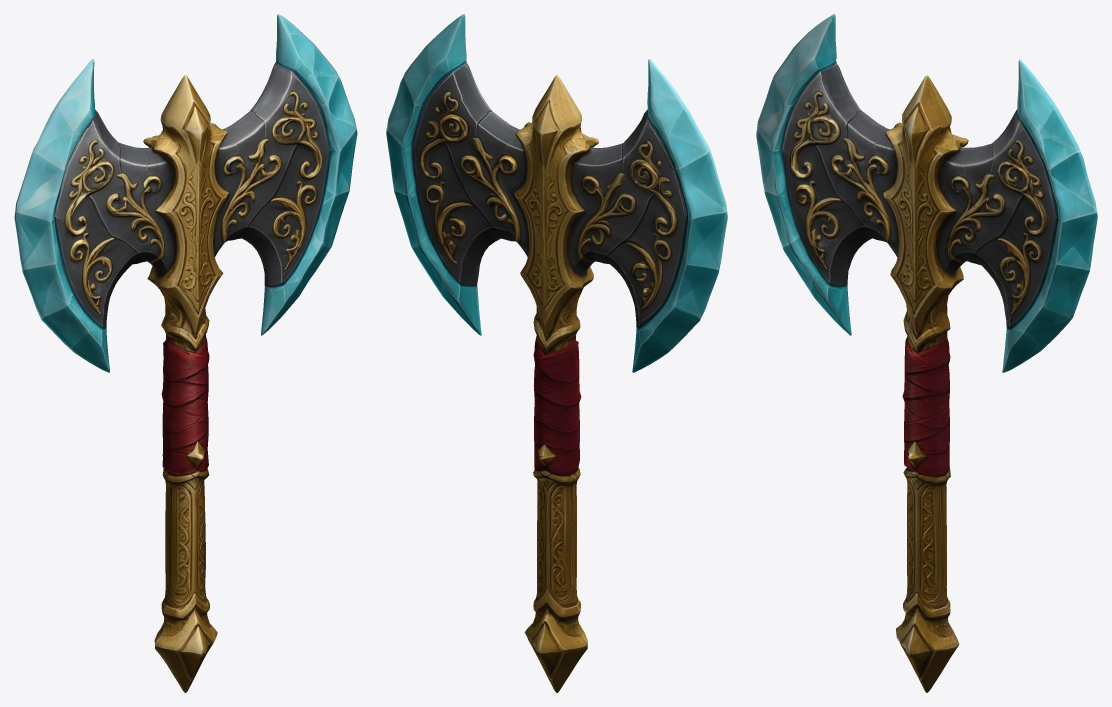
File: axe.glb
3 views of the same model, side by side, from view 1: azimuth 30°, elevation 25°; view 2: azimuth 150°, elevation 25°; view 3: azimuth 330°, elevation 25° (orthographic).
Visible parts, largest first — view 1: axe; view 2: axe; view 3: axe.
Part boxes in pixels (bbox=[...]): axe: bbox=[14, 14, 357, 692]; axe: bbox=[386, 14, 727, 692]; axe: bbox=[756, 14, 1097, 692].
Size of the model in its own units: 0.5451 by 1 by 0.0972.
Materials: 1 (1 with a texture image).
